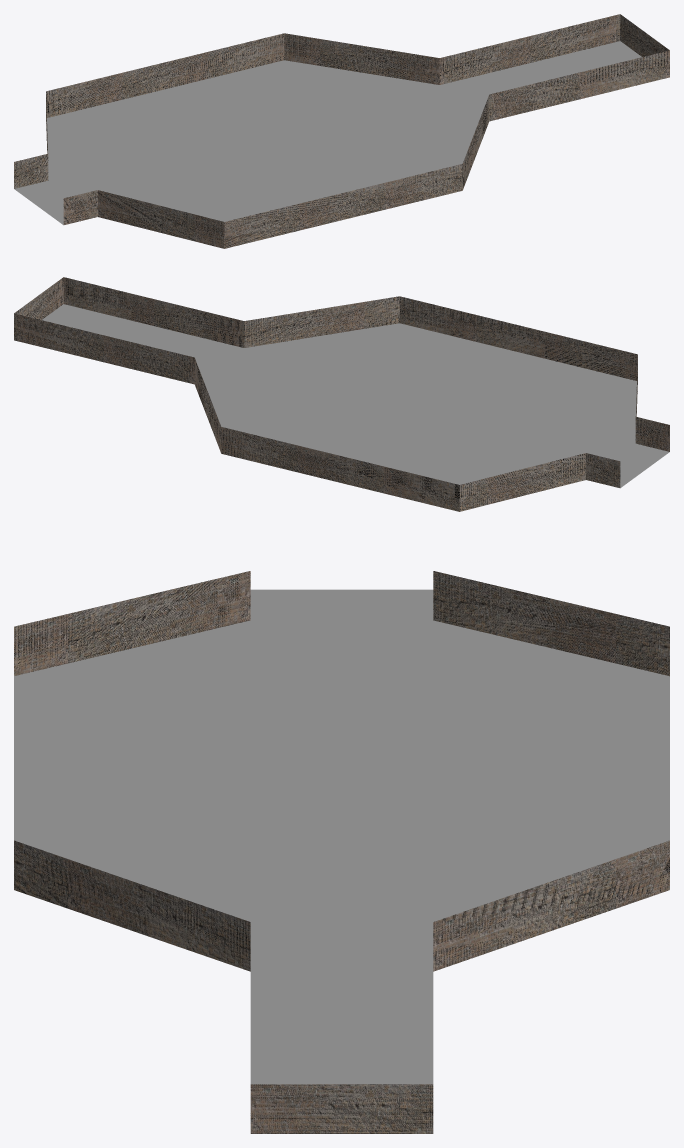
File: bossroom.FBX
3 views of the same model, one above another, from view 1: azimuth 30°, elevation 25°; view 2: azimuth 150°, elevation 25°; view 3: azimuth 270°, elevation 25° (orthographic). The views are drawn at different scales.
Parts seen in each view (by area): view 1: Plane001; view 2: Plane001; view 3: Plane001.
Part boxes in pixels (box(x1,y1,x2,y2)): Plane001: box(14, 14, 669, 248); Plane001: box(14, 277, 669, 511); Plane001: box(14, 571, 669, 1133).
Bounding box in the file's own units: 2775 × 118 × 1414.
Materials: 3 (1 with a texture image).
